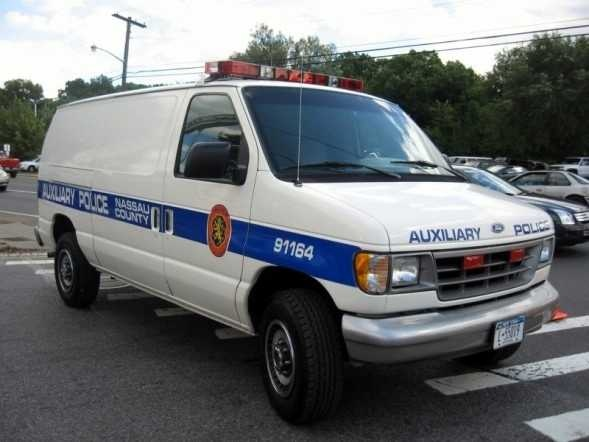Police Van: (28, 47, 582, 404)
